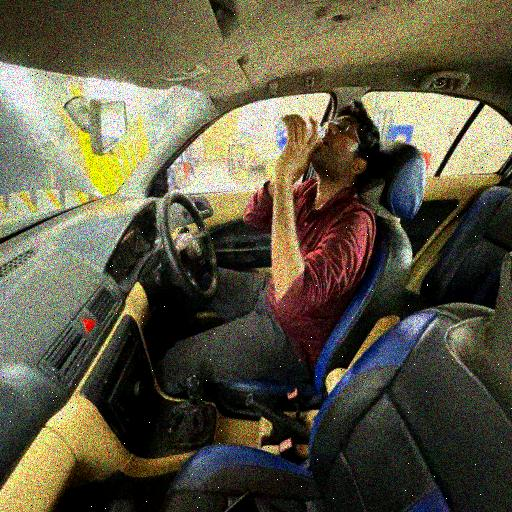Drinking: (222, 100, 390, 326)
